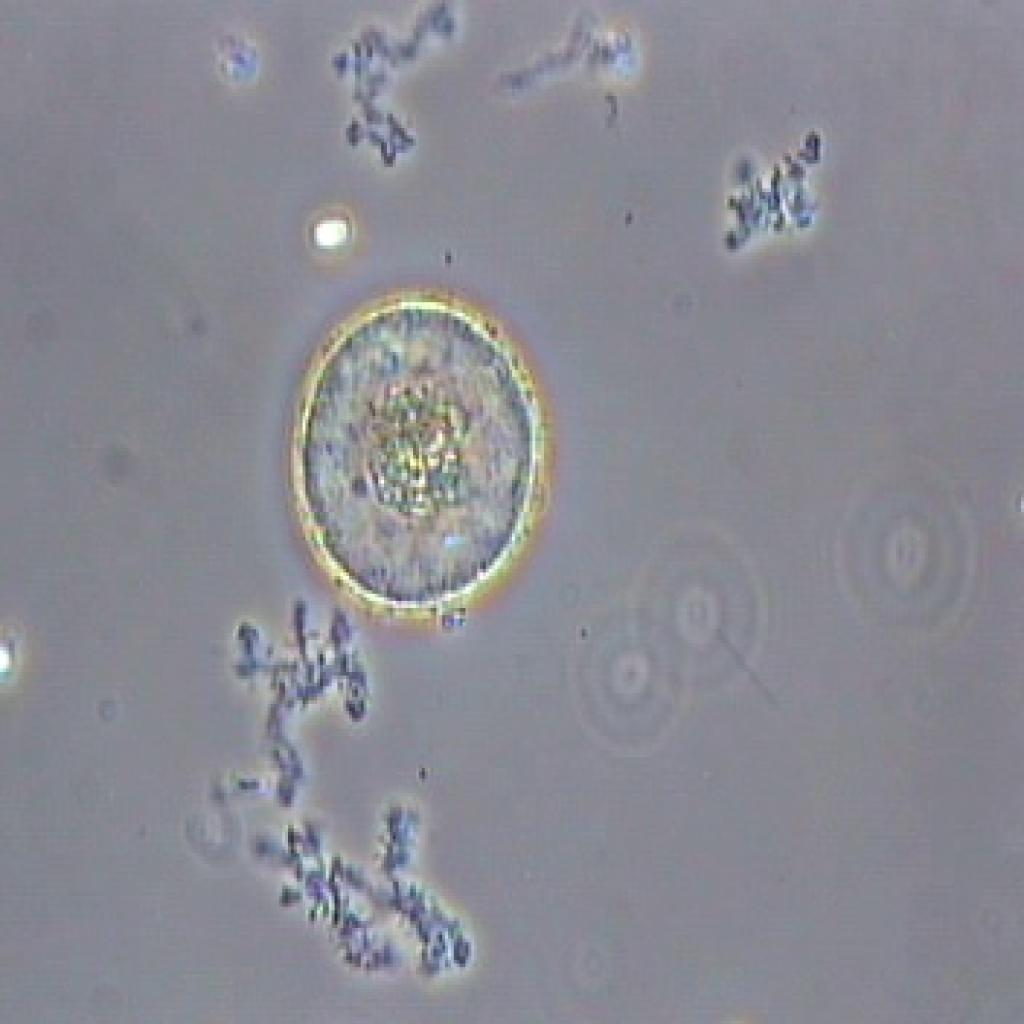Arcella: (272, 286, 563, 631)
